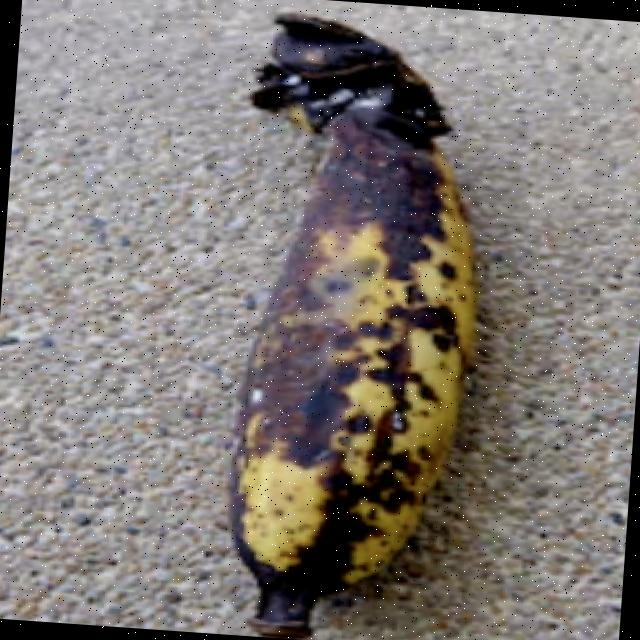rotten banana: (52, 0, 584, 640)
